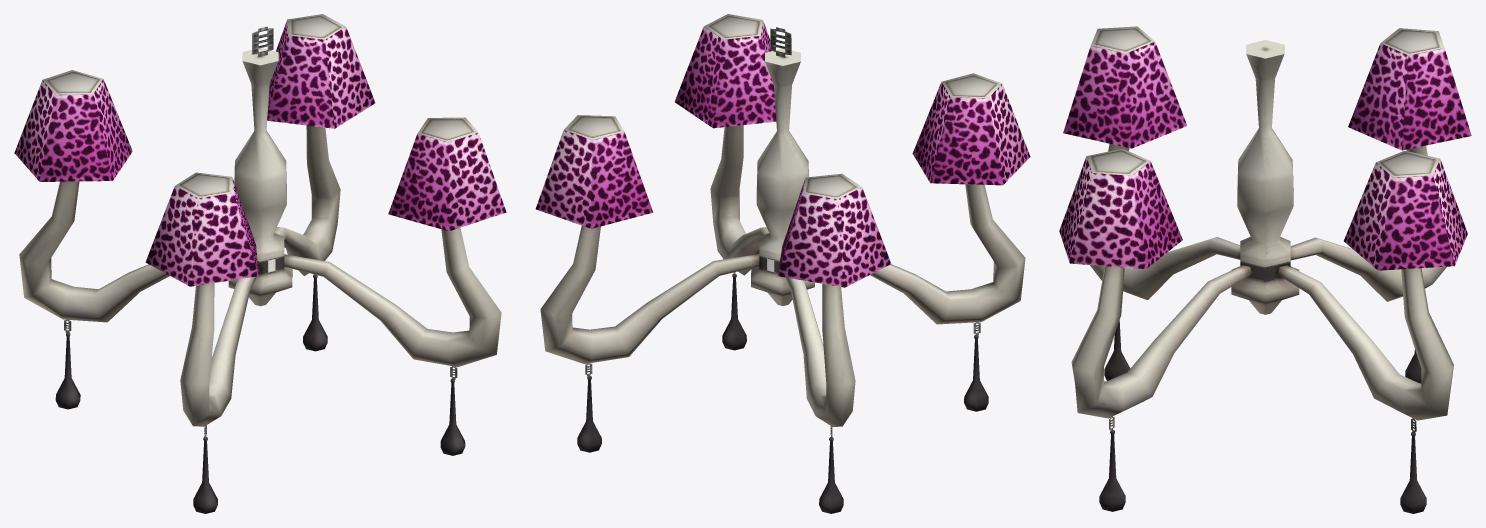
Rendered from furni_0200082_03.FBX.
3 renders of one model, left to right at view 1: azimuth 30°, elevation 25°; view 2: azimuth 150°, elevation 25°; view 3: azimuth 270°, elevation 25°, orthographic. The views are drawn at different scales.
Parts seen in each view (by area): view 1: furni_0200082_03; view 2: furni_0200082_03; view 3: furni_0200082_03.
Boxes of the visible parts, box(x1,y1,x2,y2) form: furni_0200082_03: box(14, 14, 506, 513); furni_0200082_03: box(535, 14, 1030, 513); furni_0200082_03: box(1059, 26, 1471, 513).
Bounding box in the file's own units: 71.72 × 82.49 × 71.72.
Materials: 1 (1 with a texture image).
